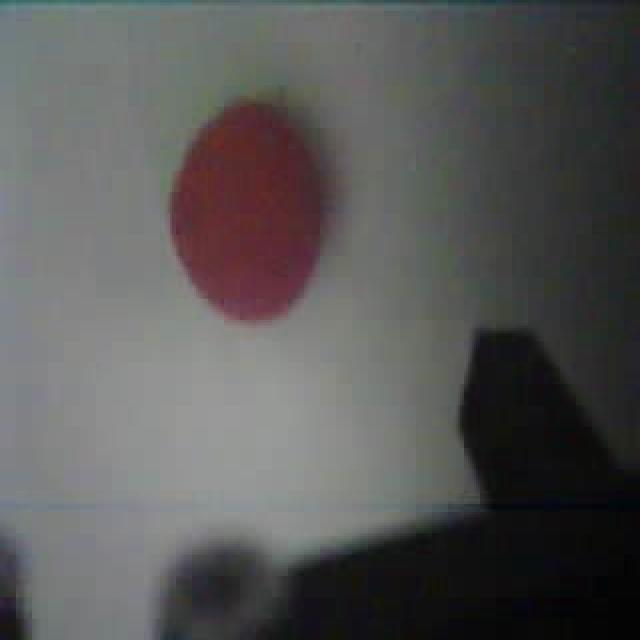red_ball: (164, 91, 330, 328)
